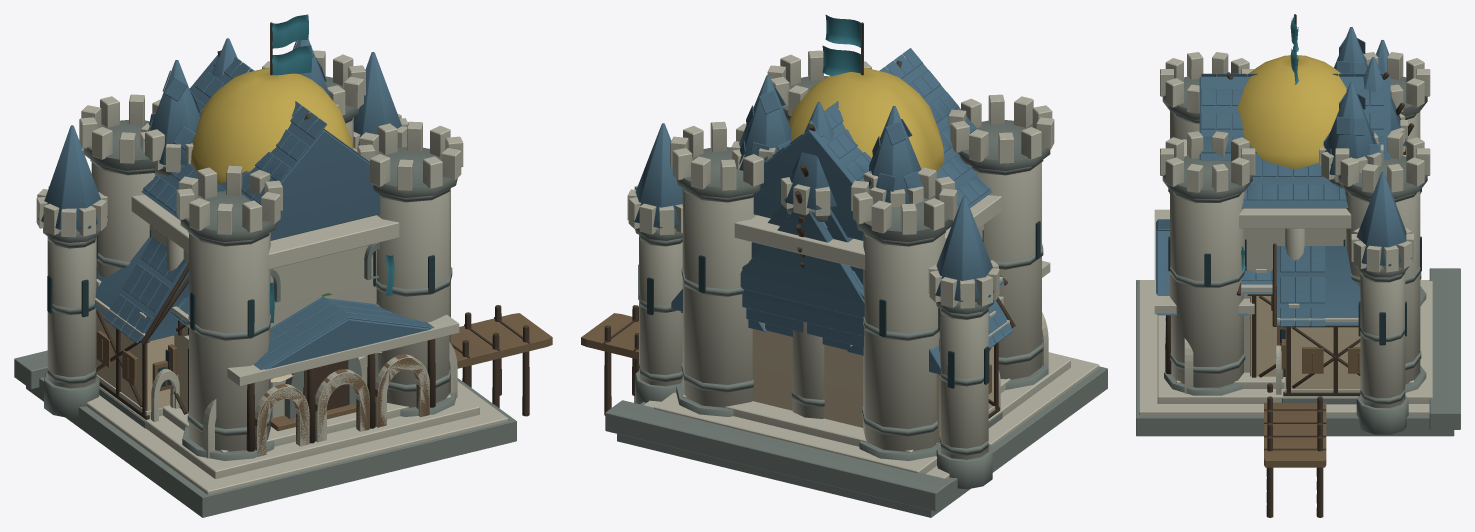
Rendered from frontier-balanced.glb.
3 renders of one model, left to right at view 1: azimuth 30°, elevation 25°; view 2: azimuth 150°, elevation 25°; view 3: azimuth 270°, elevation 25°, orthographic. The views are drawn at different scales.
Visible parts, largest first — view 1: part_167, part_191, part_166, part_190, part_193, part_169, part_26, part_27, part_235, part_8, asset__building__keep__alder__0_SlateTiles, part_24 (+24 smaller); view 2: part_167, part_24, part_191, part_26, part_166, part_183, part_193, part_645, part_257, part_190, part_181, part_169 (+19 smaller); view 3: part_167, part_191, part_193, part_24, part_166, part_26, asset__building__keep__alder__0_SlateTiles, part_190, part_169, part_196, part_467, part_257 (+26 smaller).
Part boxes in pixels (<box>): part_167: <box>79,50,463,451</box>; part_191: <box>86,147,508,494</box>; part_166: <box>83,76,457,460</box>; part_190: <box>26,302,516,517</box>; part_193: <box>191,68,353,183</box>; part_169: <box>141,55,380,240</box>; part_26: <box>36,114,457,456</box>; part_27: <box>38,39,401,369</box>; part_235: <box>95,279,459,421</box>; part_8: <box>96,332,429,456</box>; asset__building__keep__alder__0_SlateTiles: <box>143,56,369,213</box>; part_24: <box>14,228,100,417</box>; part_167: <box>670,50,1054,451</box>; part_24: <box>605,207,993,511</box>; part_191: <box>644,195,1099,479</box>; part_26: <box>628,187,1046,459</box>; part_166: <box>676,76,1050,460</box>; part_183: <box>739,75,921,317</box>; part_193: <box>788,68,944,172</box>; part_645: <box>740,110,920,317</box>; part_257: <box>627,185,1047,459</box>; part_190: <box>617,366,1107,517</box>; part_181: <box>752,329,863,427</box>; part_169: <box>753,60,991,240</box>; part_167: <box>1160,52,1430,387</box>; part_191: <box>1139,139,1432,414</box>; part_193: <box>1237,55,1346,169</box>; part_24: <box>1356,266,1460,434</box>; part_166: <box>1162,76,1427,395</box>; part_26: <box>1165,227,1413,407</box>; asset__building__keep__alder__0_SlateTiles: <box>1201,73,1384,200</box>; part_190: <box>1136,280,1454,436</box>; part_169: <box>1199,76,1390,208</box>; part_196: <box>1264,402,1326,467</box>; part_467: <box>1276,246,1360,325</box>; part_257: <box>1185,117,1413,406</box>.
Size of the model in its own units: 14.82 by 14 by 10.39.
